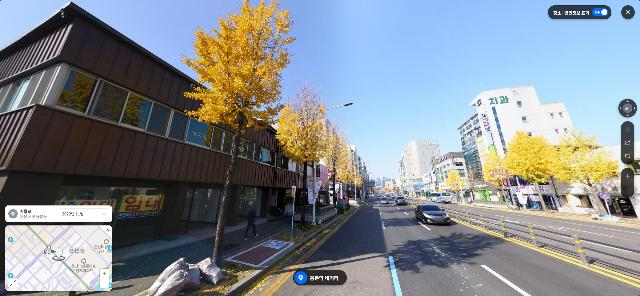ginkgo: (181, 1, 297, 263), (275, 78, 328, 228), (556, 129, 621, 219), (502, 130, 563, 212), (323, 118, 349, 205), (481, 149, 515, 206), (339, 148, 356, 210), (445, 167, 464, 203), (353, 167, 363, 202)
